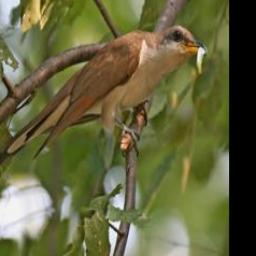Cuckoo: (0, 22, 213, 198)
